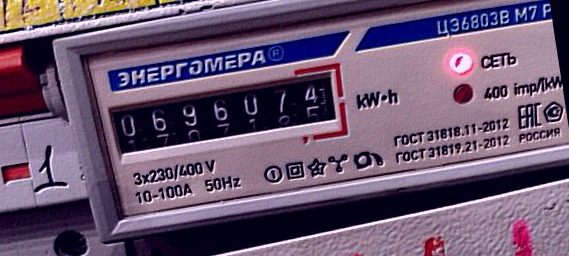0: (116, 111, 138, 139), (241, 89, 260, 117)
4: (301, 79, 320, 105)
5: (304, 103, 322, 123)
6: (148, 104, 171, 134), (209, 96, 230, 122)
7: (269, 85, 291, 114)
9: (178, 100, 200, 128)
screen: (94, 57, 356, 175)
